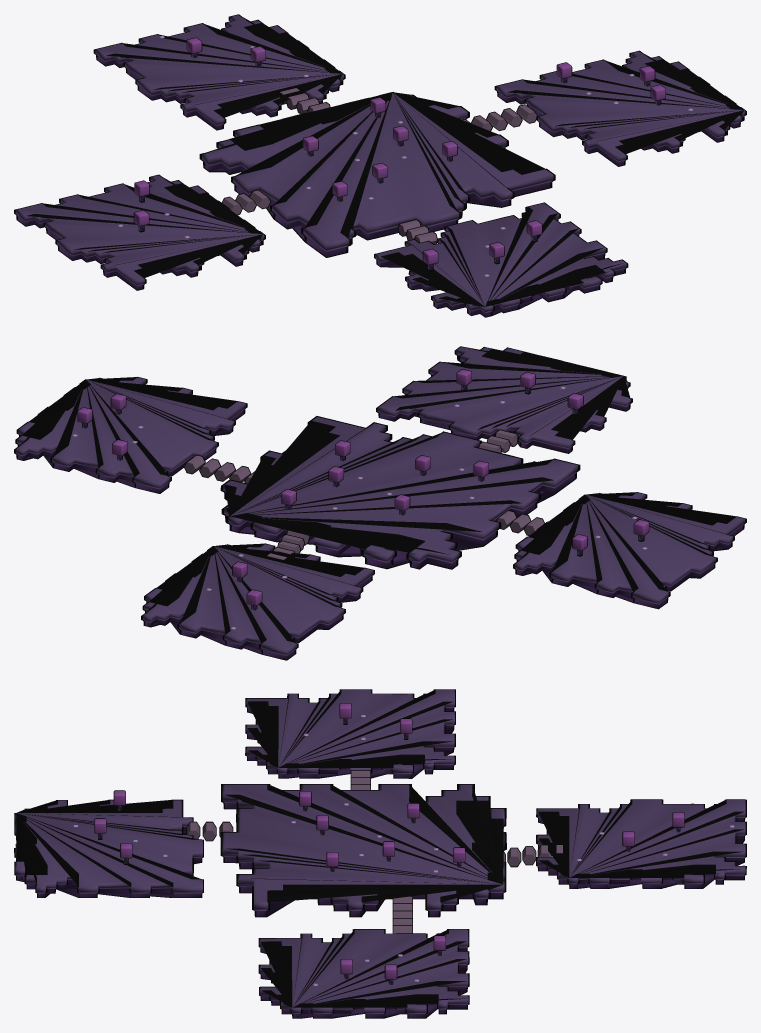
The model's file is purple.fbx.
3 views of the same model, one above another, from view 1: azimuth 30°, elevation 25°; view 2: azimuth 150°, elevation 25°; view 3: azimuth 270°, elevation 25° (orthographic).
Parts seen in each view (by area): view 1: Island.001, Island.002, Island.004, Island.003, Island.005; view 2: Island.001, Island.002, Island.005, Island.003, Island.004; view 3: Island.001, Island.004, Island.005, Island.003, Island.002.
Part boxes in pixels (box(x1,y1,x2,y2)): Island.001: box(199, 92, 555, 257); Island.002: box(14, 174, 265, 290); Island.004: box(374, 202, 628, 317); Island.003: box(494, 50, 746, 166); Island.005: box(93, 14, 345, 130); Island.001: box(220, 416, 580, 569); Island.002: box(513, 492, 746, 609); Island.005: box(141, 543, 374, 660); Island.003: box(14, 376, 247, 493); Island.004: box(376, 346, 632, 453); Island.001: box(220, 784, 506, 917); Island.004: box(14, 799, 203, 897); Island.005: box(536, 799, 746, 888); Island.003: box(258, 929, 469, 1018); Island.002: box(245, 689, 455, 778).
Bounding box in the file's own units: 390608 × 18158 × 377852.
